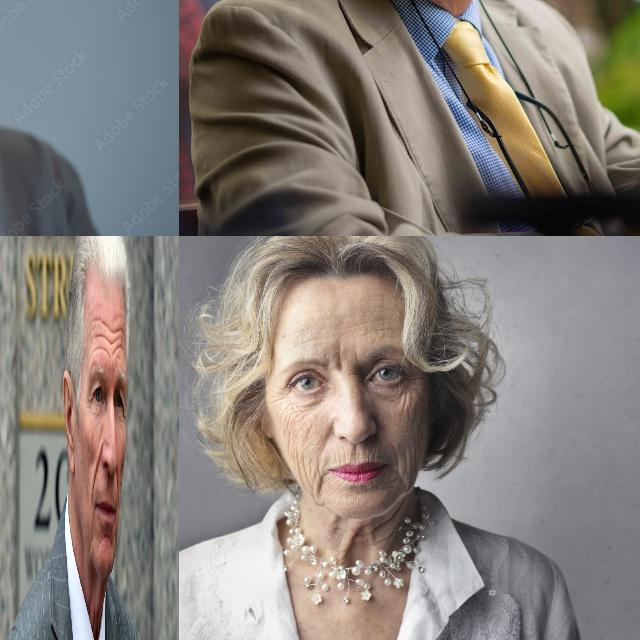chin: (103, 526, 111, 547)
crows_feet: (404, 374, 421, 401), (271, 384, 291, 404), (121, 393, 127, 430), (86, 389, 92, 414)
forehead: (296, 328, 318, 348), (91, 316, 102, 354), (113, 322, 124, 358), (104, 315, 112, 362)
frown_line: (334, 351, 348, 373)
gummy_smile: (92, 447, 101, 493), (115, 467, 119, 505)
masseter: (292, 454, 318, 490), (401, 446, 419, 486), (402, 406, 421, 434), (282, 412, 296, 444)
smoker_lines: (335, 449, 383, 461)
